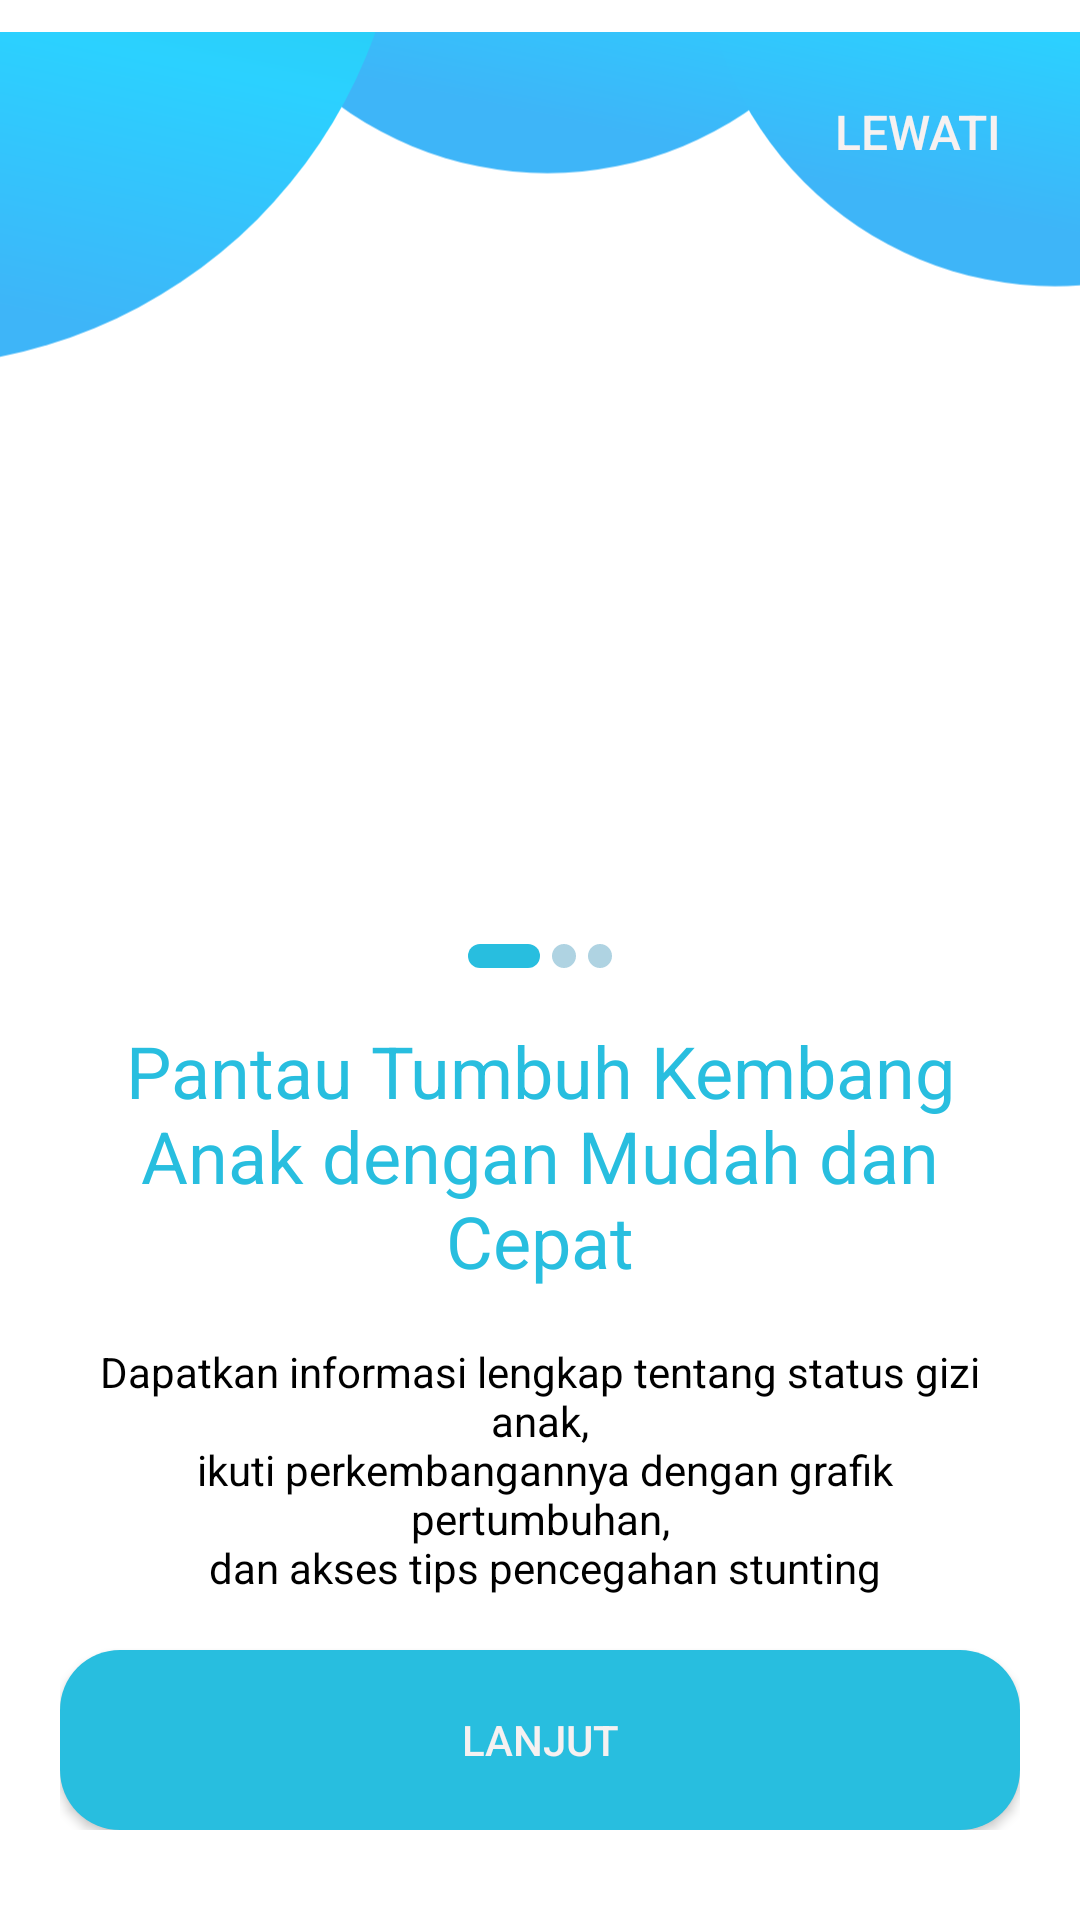

Point at icon controls on the screen. Image size 1080px x 1920px, points as point (x, y).
Boarding indicators: point (540, 956)
